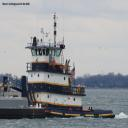tugboat: (4, 29, 118, 122)
